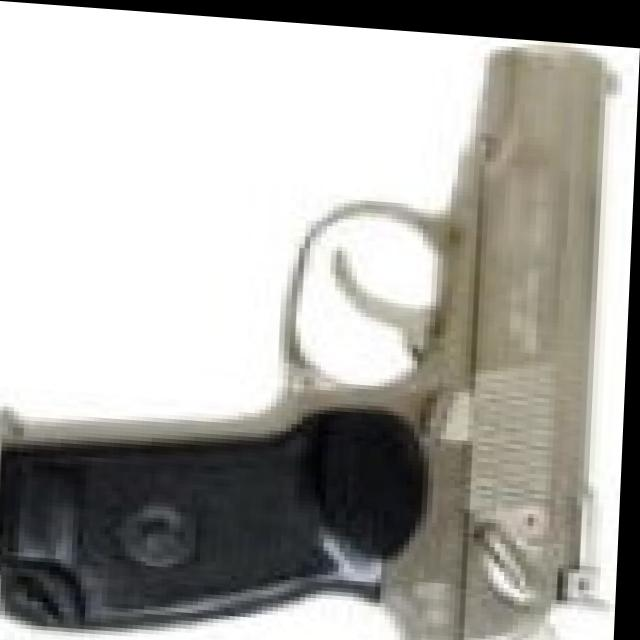handgun: (0, 5, 640, 640)
